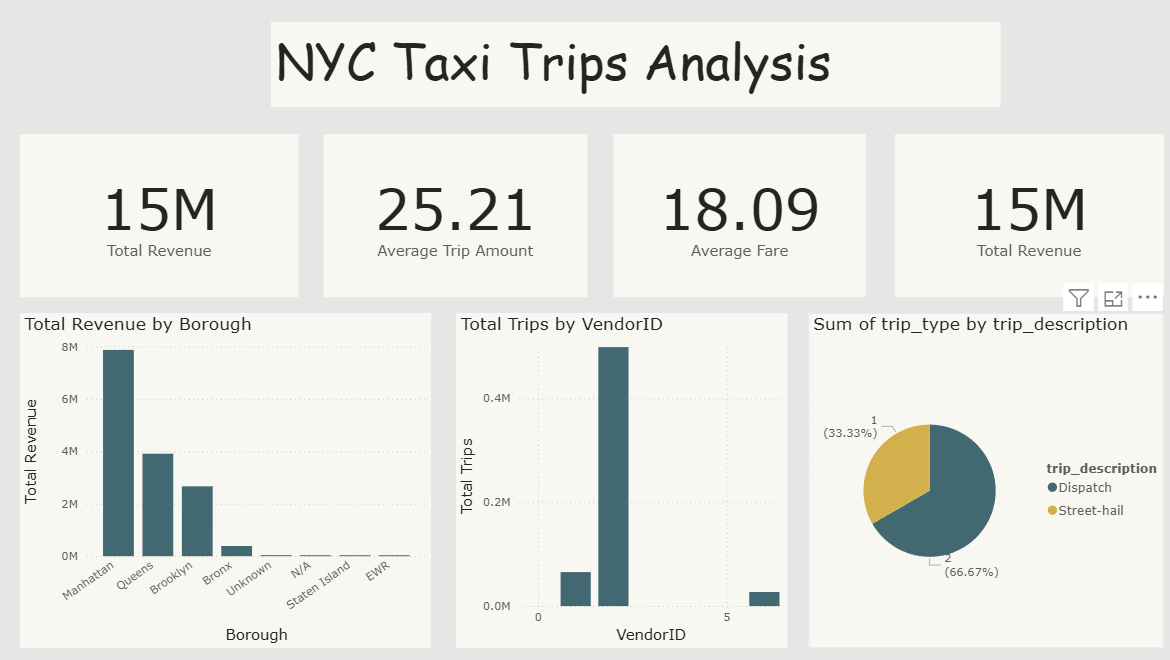

This screenshot's page, from the dashboard's own definition file:
{"tool":"powerbi","page":{"name":"Page 1","canvas":[1280,720],"ordinal":0},"visuals":[{"type":"card","fields":{"Values":["trip_trip.Total Trips"]},"box":[26.1,146.8,301.9,175.6],"z":0},{"type":"card","fields":{"Values":["trip_trip.Average Trip Amount"]},"box":[354,146.8,285.4,175.6],"z":1},{"type":"card","fields":{"Values":["trip_trip.Total Revenue"]},"box":[971.5,146.8,290.9,175.6],"z":2},{"type":"card","fields":{"Values":["trip_trip.Average Fare"]},"box":[666.9,146.8,273.1,175.6],"z":3},{"type":"clusteredColumnChart","fields":{"Category":["trip_zone.Borough"],"Y":["trip_trip.Total Revenue"]},"box":[26.1,340.3,444.6,362.3],"z":4},{"type":"clusteredColumnChart","fields":{"Category":["trip_trip.VendorID"],"Y":["trip_trip.Total Trips"]},"box":[496.7,340.3,358.1,362.3],"z":5},{"type":"textbox","box":[297.8,26.1,789,91.9],"z":6},{"type":"pieChart","fields":{"Category":["trip_type.trip_description"],"Y":["Sum(trip_type.trip_type)"]},"box":[878.2,340.3,384.2,362.3],"z":7}]}

Visuals, with their boxes in screenshot pixels (x1, y1, x2, y2), scaled from the page's 1280x720 canvas onto the 1170x660 screenshot:
card - trip_trip.Total Trips: <bbox>24, 135, 300, 296</bbox>
card - trip_trip.Average Trip Amount: <bbox>324, 135, 584, 296</bbox>
card - trip_trip.Total Revenue: <bbox>888, 135, 1154, 296</bbox>
card - trip_trip.Average Fare: <bbox>610, 135, 859, 296</bbox>
clusteredColumnChart - trip_zone.Borough x trip_trip.Total Revenue: <bbox>24, 312, 430, 644</bbox>
clusteredColumnChart - trip_trip.VendorID x trip_trip.Total Trips: <bbox>454, 312, 781, 644</bbox>
textbox: <bbox>272, 24, 993, 108</bbox>
pieChart - trip_type.trip_description x Sum(trip_type.trip_type): <bbox>803, 312, 1154, 644</bbox>
